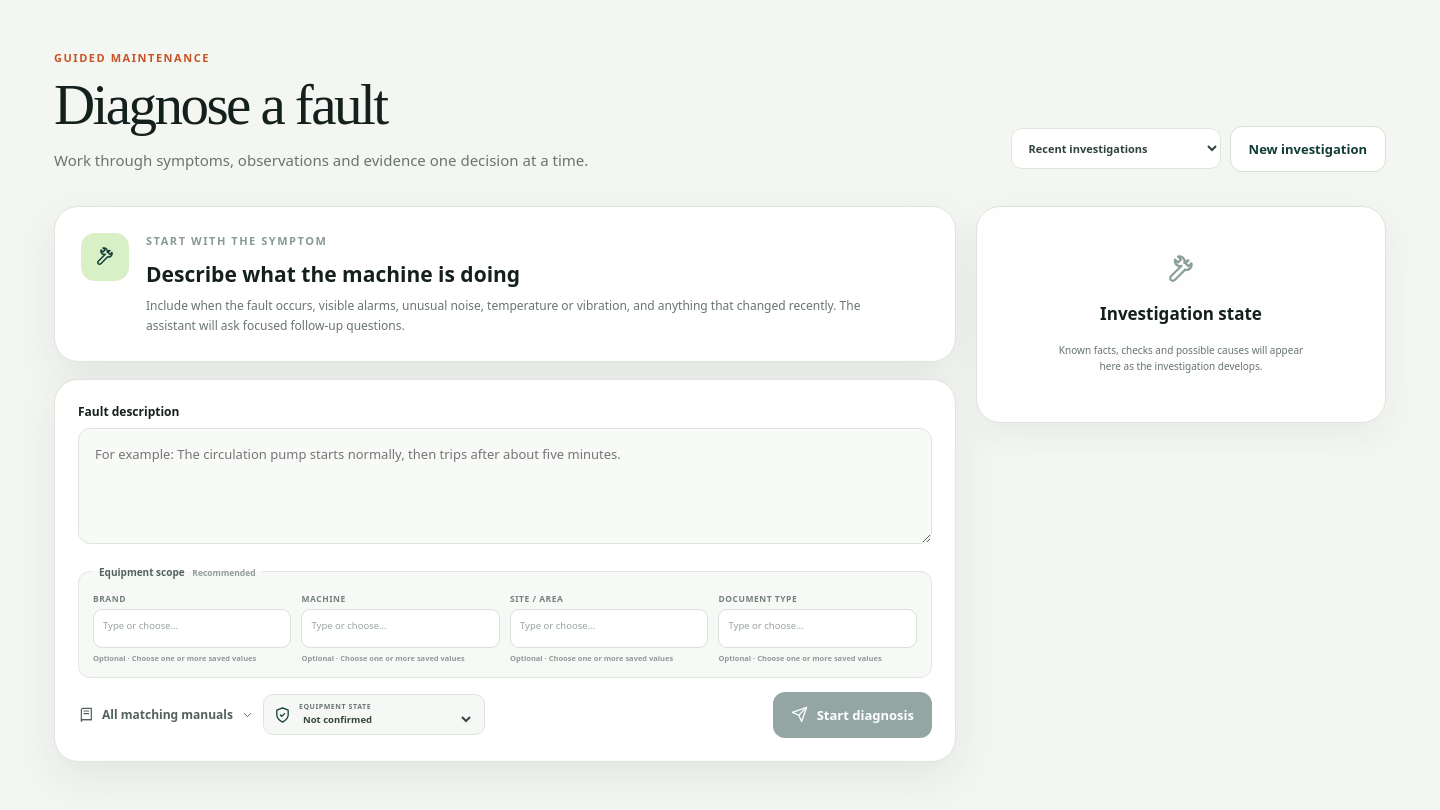
Test: DiagnosticWorkspace › starts a guided investigation and displays live hypotheses and citations
This screenshot has width=1440, height=810.
Check: the heading "Describe what the machine is doing" is shown, box [146,260,520,288]
Replace the text in the text box labelled "Fault description" with "Pump trips after five minutes" at (505, 486), box [78,428,932,544]
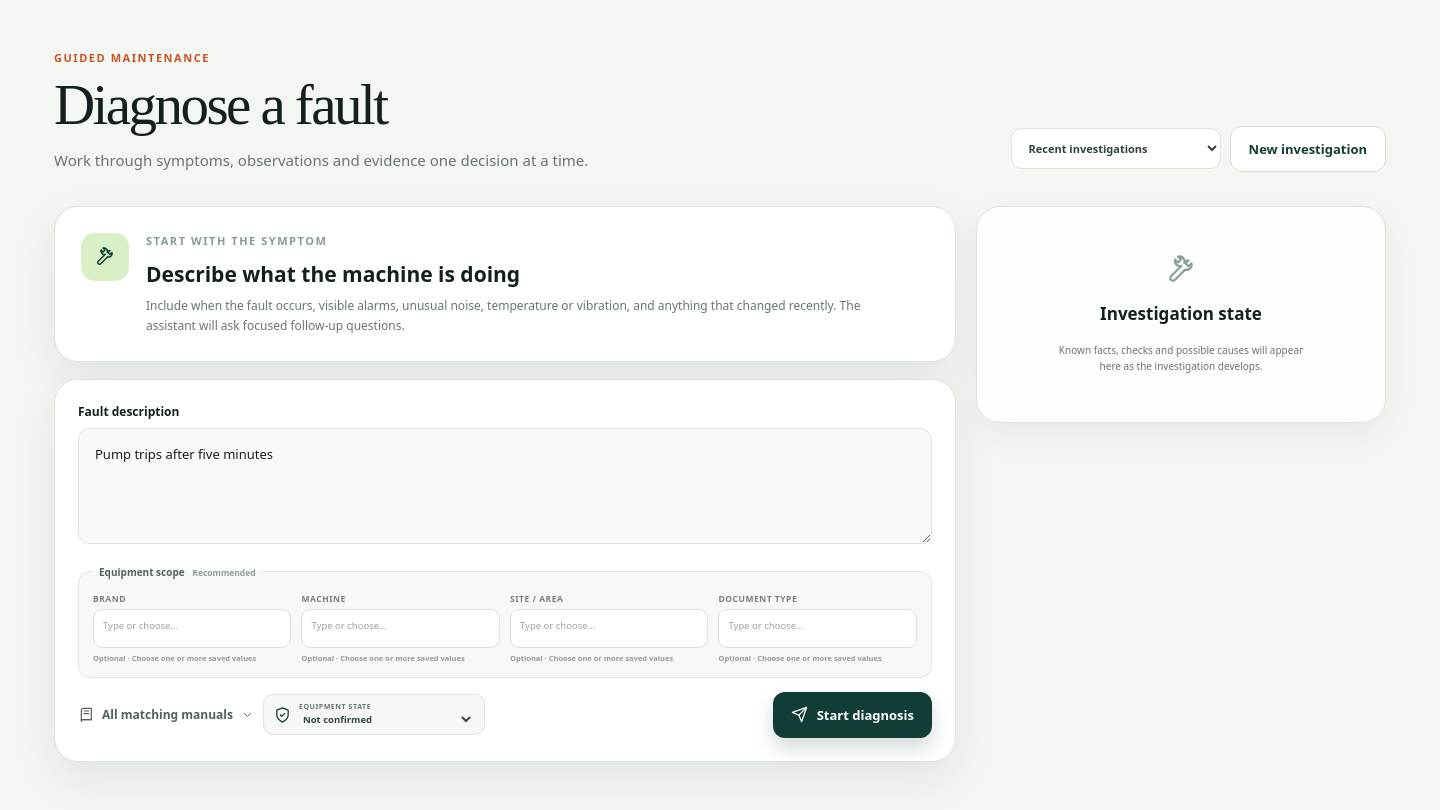
Select "Non-intrusive checks only" in the dropdown named "Equipment safety state" at (386, 720), box [299,712,474,727]
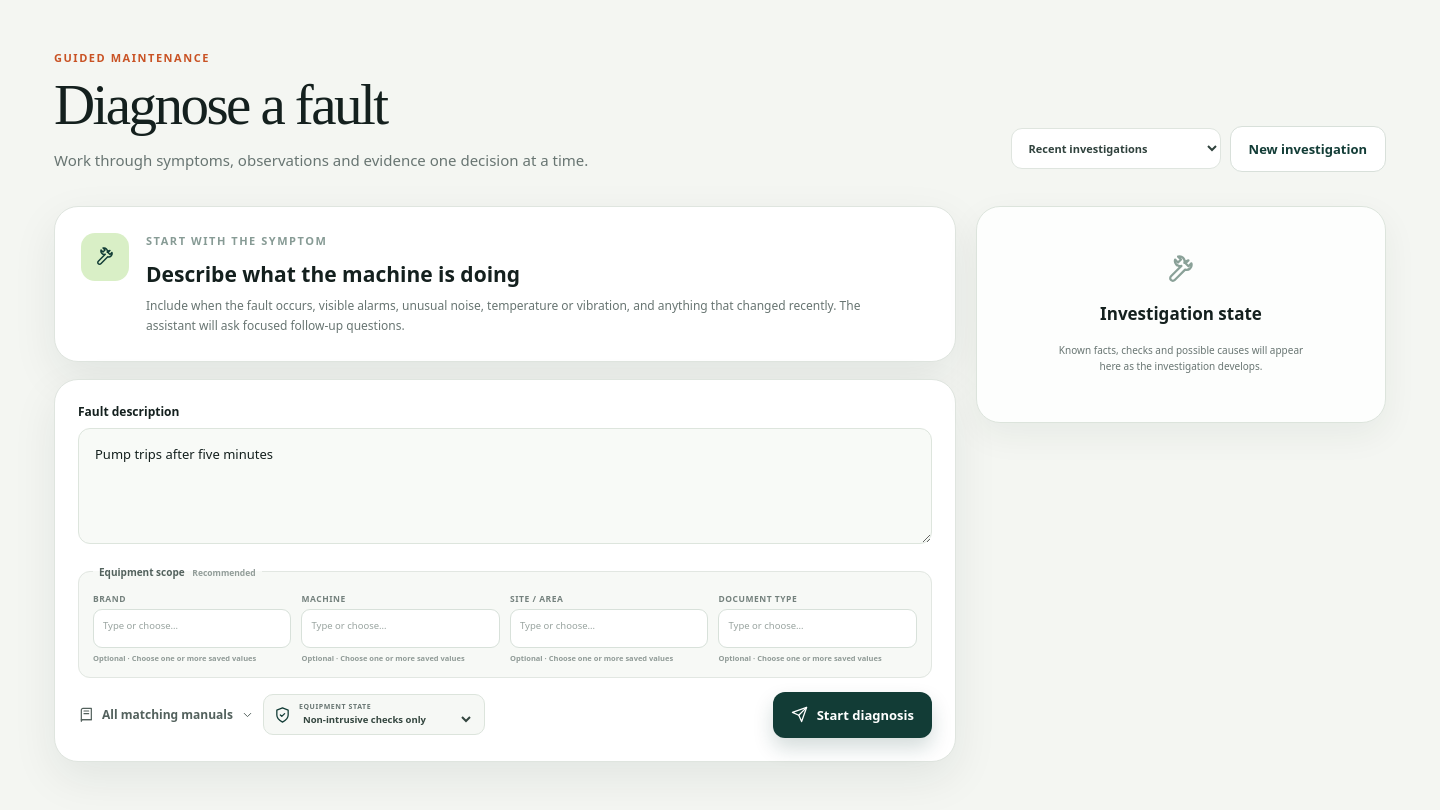
Click the button "Start diagnosis".
click(852, 715)  # box [773,692,932,738]
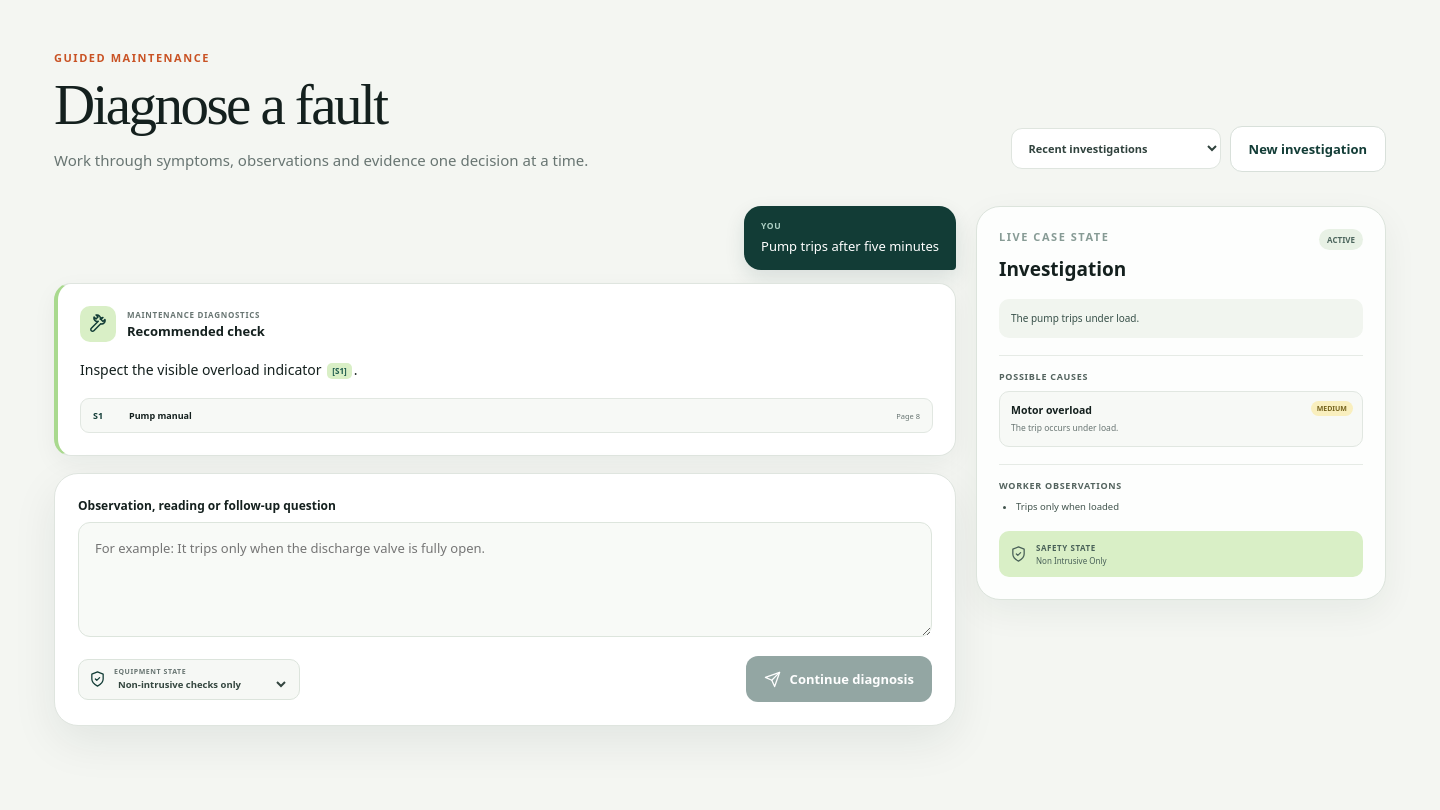
Check: the text "Recommended check" is shown, box [127,322,265,340]
Check: the text "Motor overload" is shown, box [1011,403,1092,417]
Check: the text "The pump trips under load." is shown, box [999,299,1363,338]
